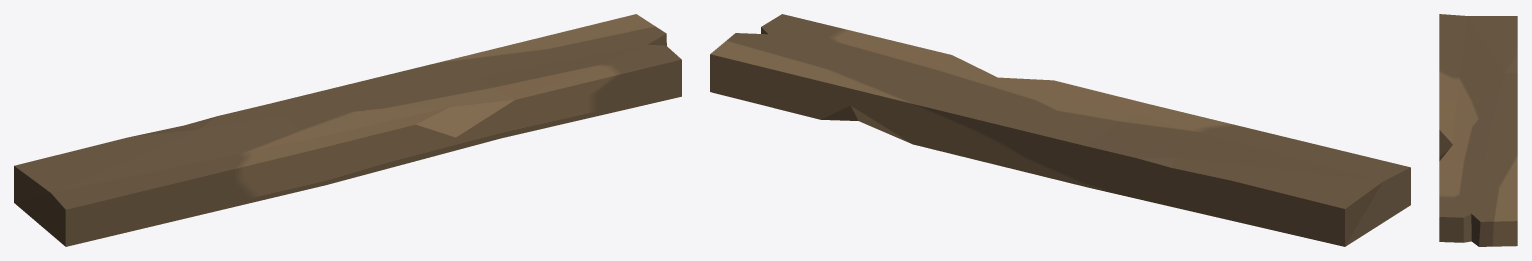
File: SM_Prop_Plank_02.fbx
3 views of the same model, side by side, from view 1: azimuth 30°, elevation 25°; view 2: azimuth 150°, elevation 25°; view 3: azimuth 270°, elevation 25° (orthographic). The views are drawn at different scales.
Visible parts, largest first — view 1: SM_Prop_Plank_02; view 2: SM_Prop_Plank_02; view 3: SM_Prop_Plank_02.
Boxes of the visible parts, left/top/right/bottom form: SM_Prop_Plank_02: left=14, top=14, right=681, bottom=246; SM_Prop_Plank_02: left=710, top=14, right=1410, bottom=246; SM_Prop_Plank_02: left=1439, top=14, right=1517, bottom=246.
Bounding box in the file's own units: 171 × 10.61 × 27.22.
